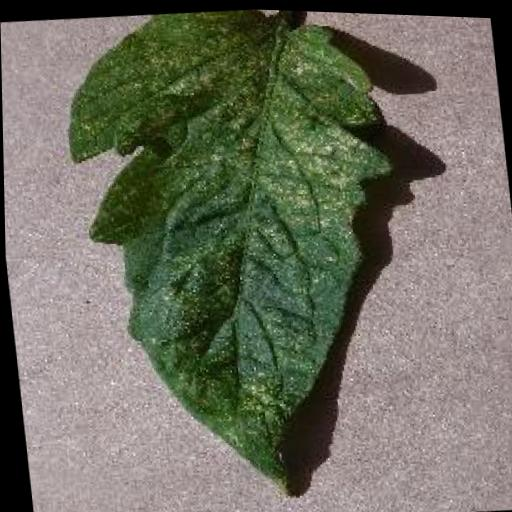Spider Mites: (55, 2, 421, 505)
